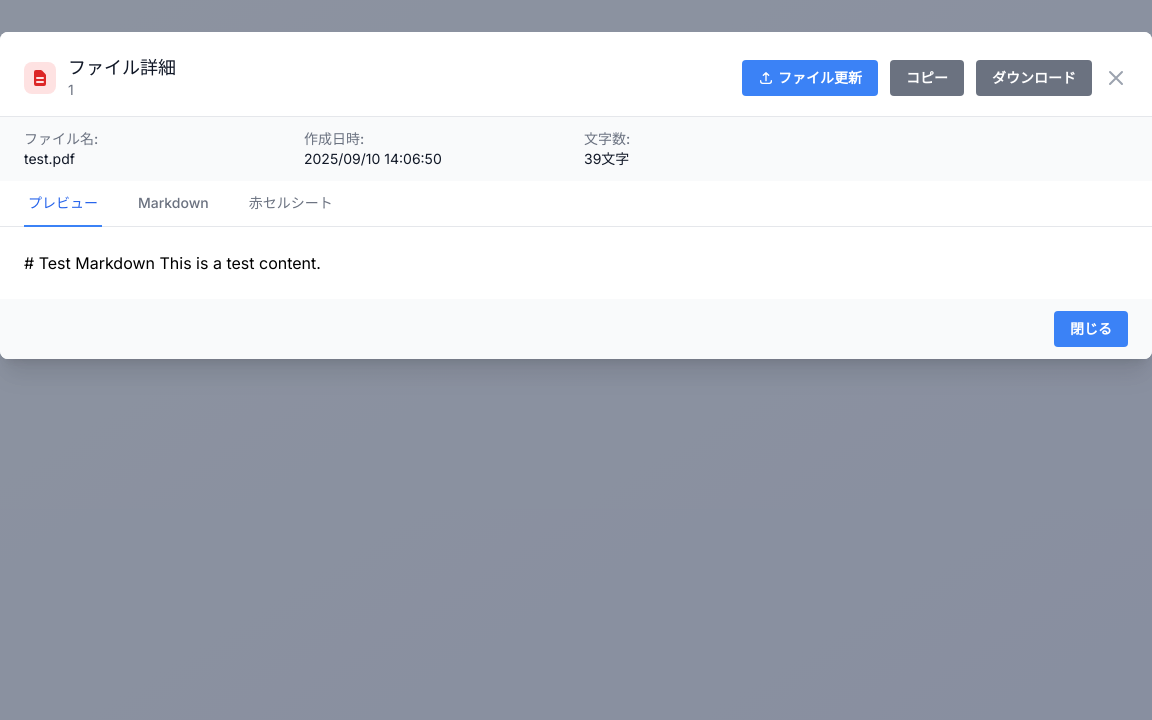
it: FileDetailModal › 赤セルシート設定ボタンをクリックすると設定パネルが表示される
Note: 赤セルシートタブをクリック
What coordinates should you click on to do the following:
click the button with test id "redacted-tab"
I would click on:
 (291, 204)
Its box is left=245, top=181, right=337, bottom=227.
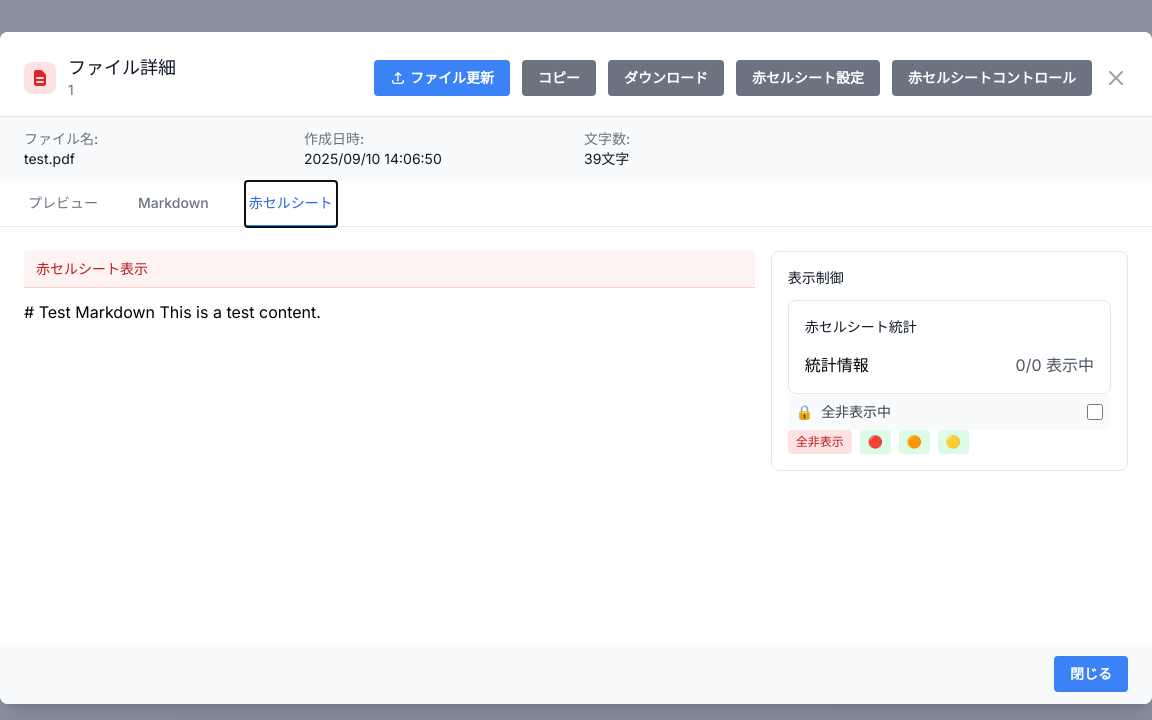
Note: 設定ボタンをクリック
What coordinates should you click on to do the following:
click the button with test id "redaction-settings-button"
I would click on:
 (808, 78)
Its box is left=736, top=60, right=880, bottom=96.
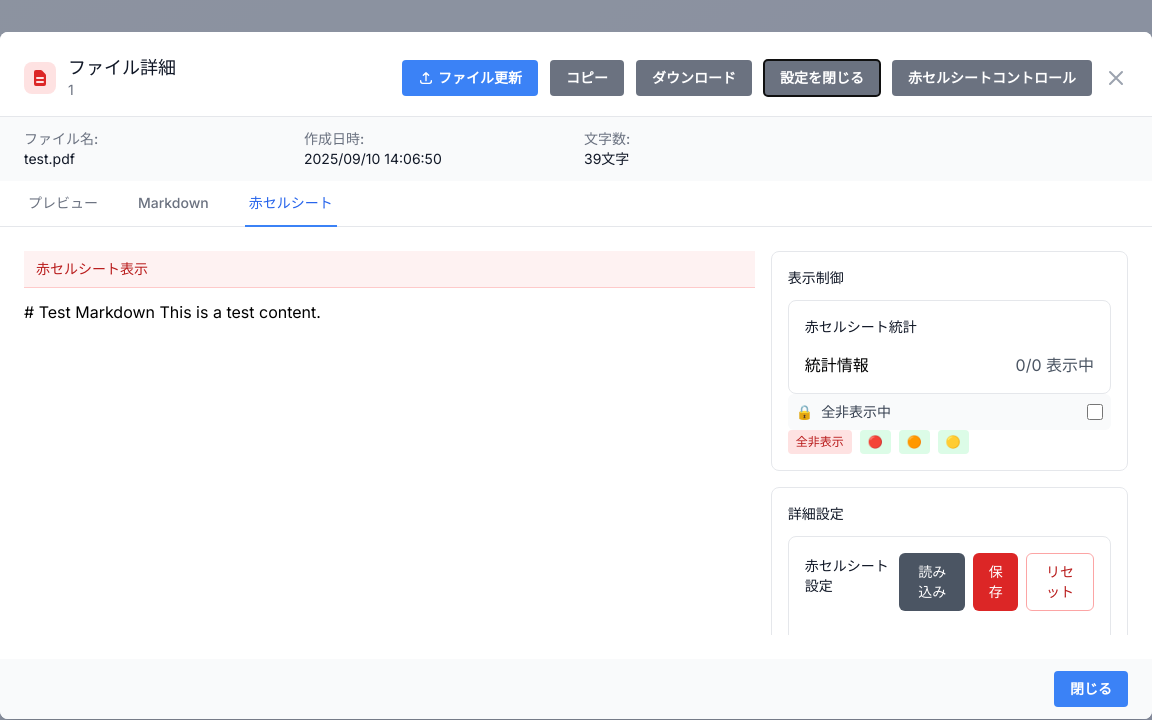
Expected: the heading "詳細設定" is shown, left=788, top=505, right=844, bottom=522
Expected: the button "設定を閉じる" is shown, left=764, top=60, right=880, bottom=96
